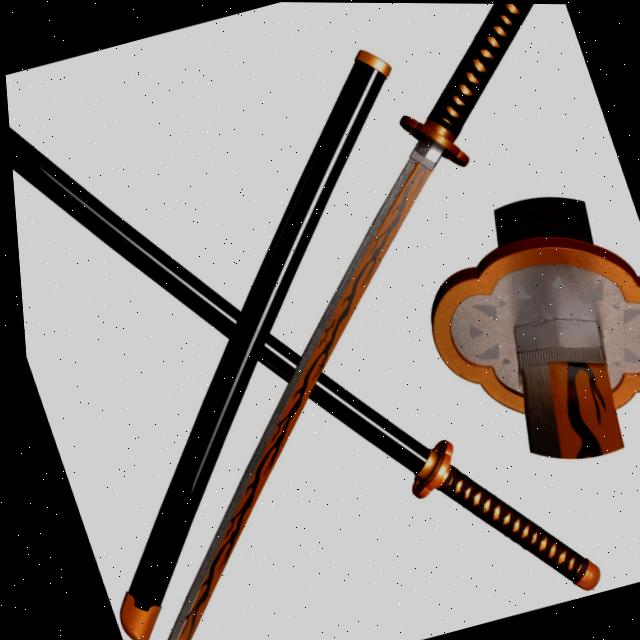knife: (0, 0, 640, 640), (0, 0, 602, 640)
